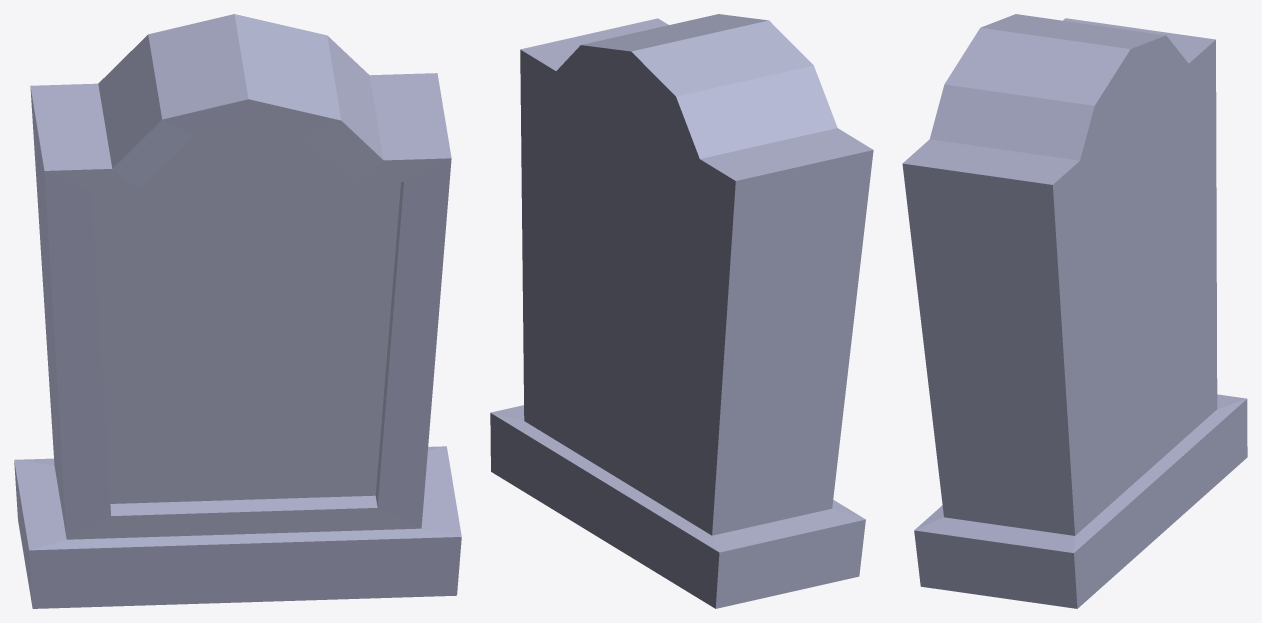
The model's file is tombstone_2.glb.
3 renders of one model, left to right at view 1: azimuth 30°, elevation 25°; view 2: azimuth 150°, elevation 25°; view 3: azimuth 270°, elevation 25°, orthographic. The views are drawn at different scales.
Parts seen in each view (by area): view 1: Tombstone.001; view 2: Tombstone.001; view 3: Tombstone.001.
Boxes of the visible parts, box(x1,y1,x2,y2) form: Tombstone.001: box(14, 14, 461, 608); Tombstone.001: box(490, 14, 873, 608); Tombstone.001: box(902, 14, 1247, 608).
Size of the model in its own units: 1.8 by 2.21 by 1.42.
